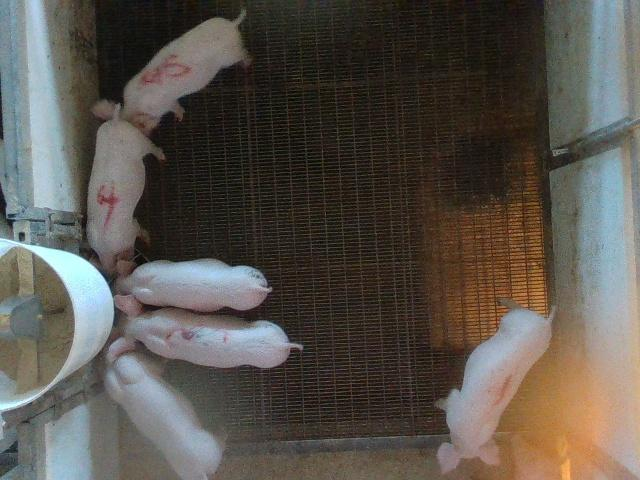pig-3: (438, 301, 554, 473), (106, 295, 302, 367)
pig-4: (86, 106, 164, 276)
pig-5: (122, 10, 250, 134)
